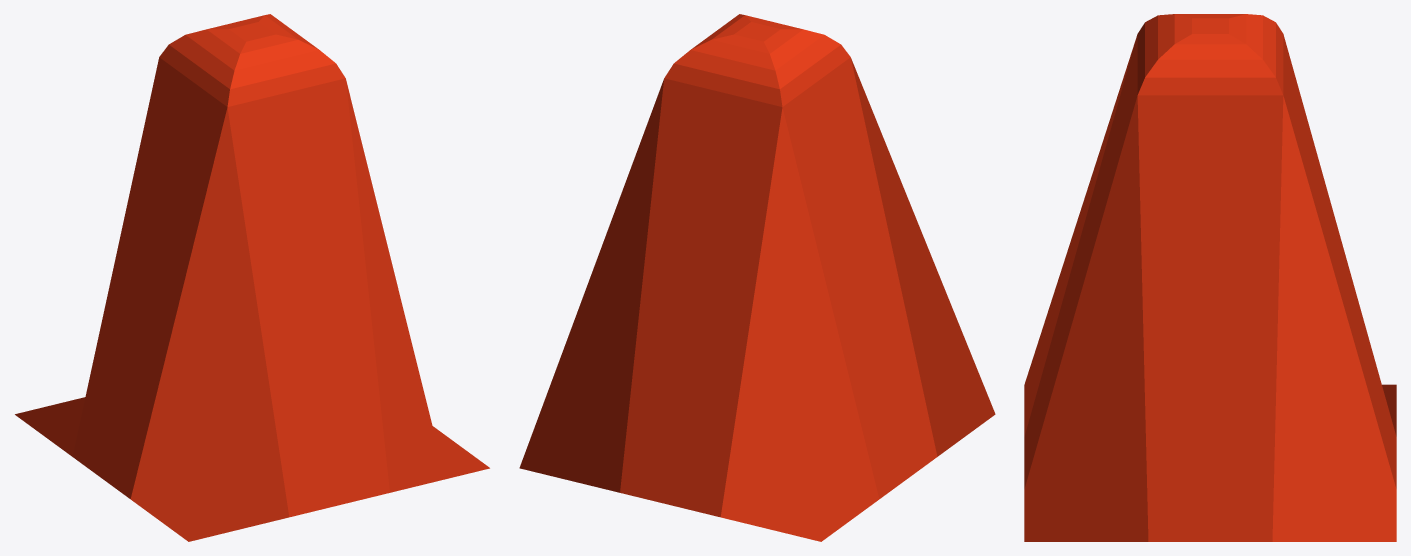
File: dagbasic.fbx
3 renders of one model, left to right at view 1: azimuth 30°, elevation 25°; view 2: azimuth 150°, elevation 25°; view 3: azimuth 270°, elevation 25°, orthographic. The views are drawn at different scales.
Visible parts, largest first — view 1: Plane; view 2: Plane; view 3: Plane.
Boxes of the visible parts, <box> form: Plane: <box>15,14,489,541</box>; Plane: <box>519,14,995,541</box>; Plane: <box>1024,14,1396,541</box>.
Bounding box in the file's own units: 171 × 222 × 171.
